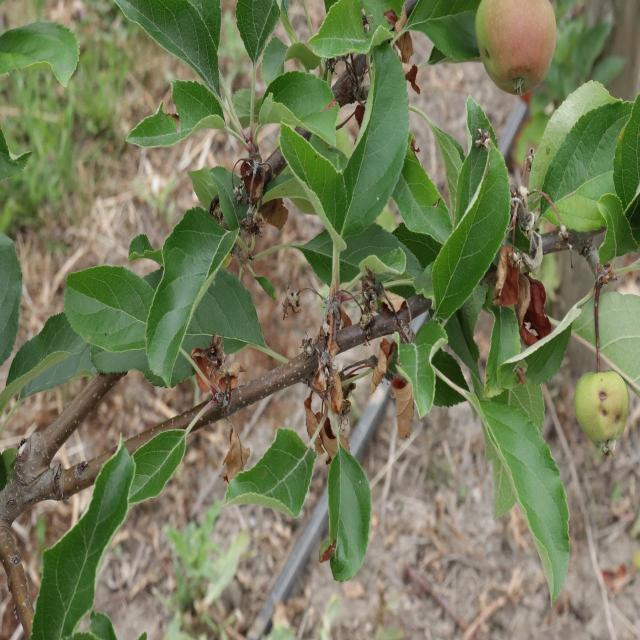-FireBlight-: (306, 302, 354, 466), (492, 217, 550, 349), (372, 326, 416, 431), (390, 0, 419, 96), (188, 338, 236, 393), (240, 160, 282, 220), (223, 423, 250, 477)
